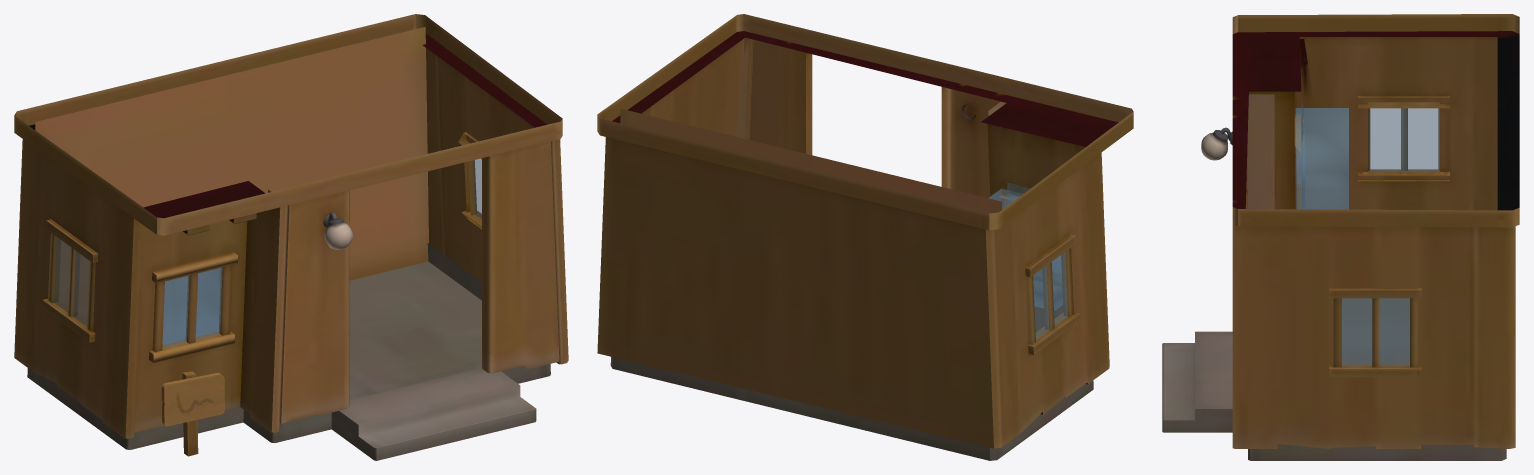
The model's file is wall-nc-wood.glb.
3 views of the same model, side by side, from view 1: azimuth 30°, elevation 25°; view 2: azimuth 150°, elevation 25°; view 3: azimuth 270°, elevation 25° (orthographic). The views are drawn at different scales.
Size of the model in its own units: 36.17 by 21.45 by 27.3.
7 materials, 3 textured.
